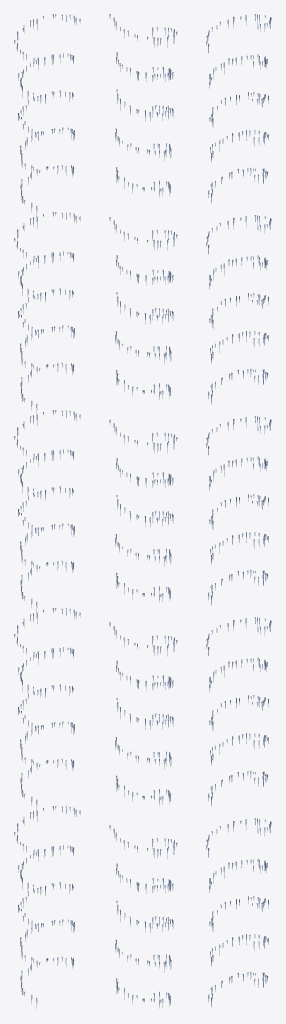
The model's file is Circle9Glow.obj.
3 renders of one model, left to right at view 1: azimuth 30°, elevation 25°; view 2: azimuth 210°, elevation 25°; view 3: azimuth 330°, elevation 25°, orthographic. The views are drawn at different scales.
Parts seen in each view (by area): view 1: Circle9Glow; view 2: Circle9Glow; view 3: Circle9Glow.
Part boxes in pixels (x1=…): Circle9Glow: x1=14, y1=14, x2=80, y2=1008; Circle9Glow: x1=109, y1=14, x2=177, y2=1008; Circle9Glow: x1=206, y1=14, x2=271, y2=1007.
Size of the model in its own units: 28.76 by 475 by 24.1.
1 material, 1 textured.
